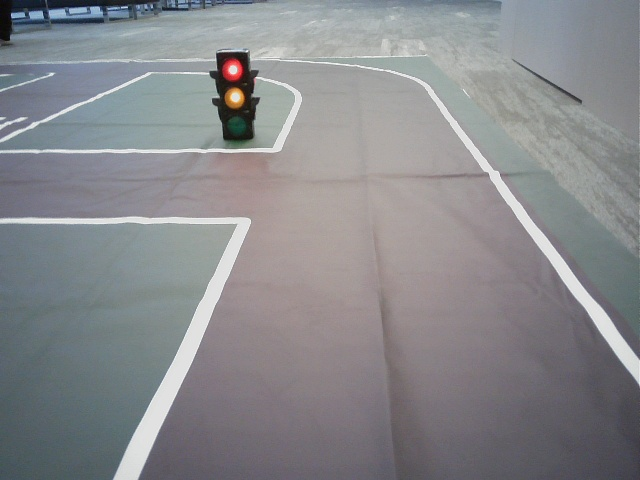red: (216, 53, 252, 138)
